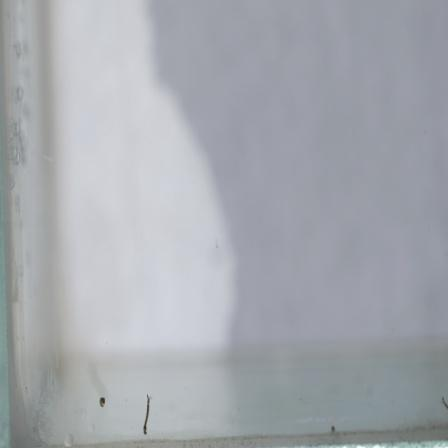Jentik-Nyamuk: (138, 389, 155, 441), (97, 393, 110, 411)
